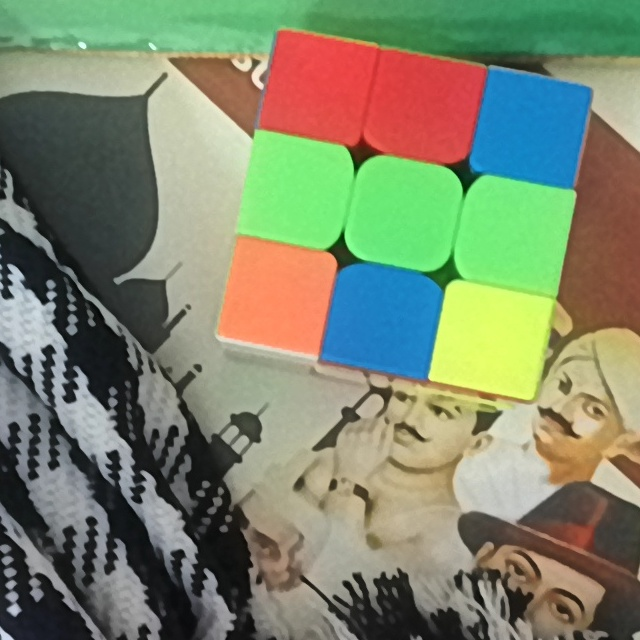tile: (359, 174, 447, 256), (470, 196, 562, 274), (491, 87, 574, 173), (251, 151, 340, 231), (448, 300, 534, 377), (279, 42, 363, 120), (339, 283, 430, 353), (234, 263, 322, 332), (380, 74, 465, 145)
